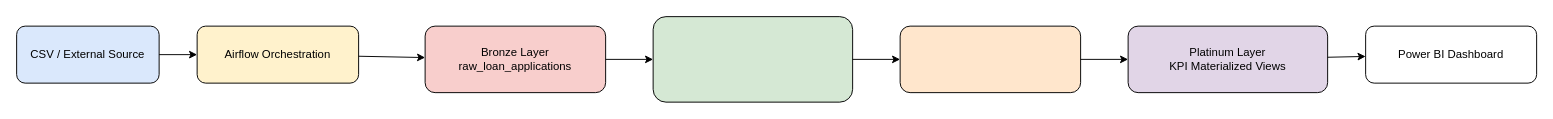
This 1553x119 diagram has some shape labels left out. The shapes that lost their labels are listed below. From the top down, each one's centre as x and y in pixels, then its label:
At [752,59]: "Silver Layer Decision Engine SCD2 Fact + Dimensions".
At [990,59]: "Gold Layer mart_loan_decision".
